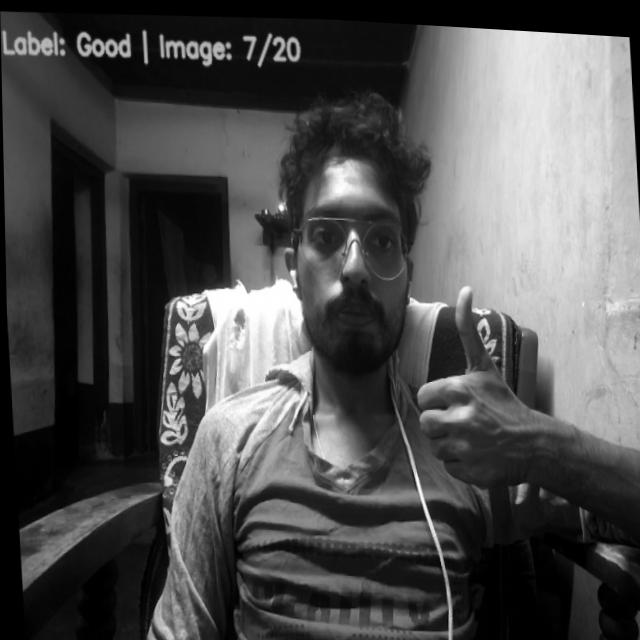Good: (405, 269, 538, 507)
